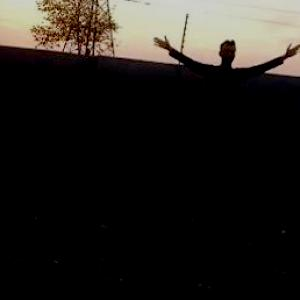takeoff: (160, 38, 290, 184)
